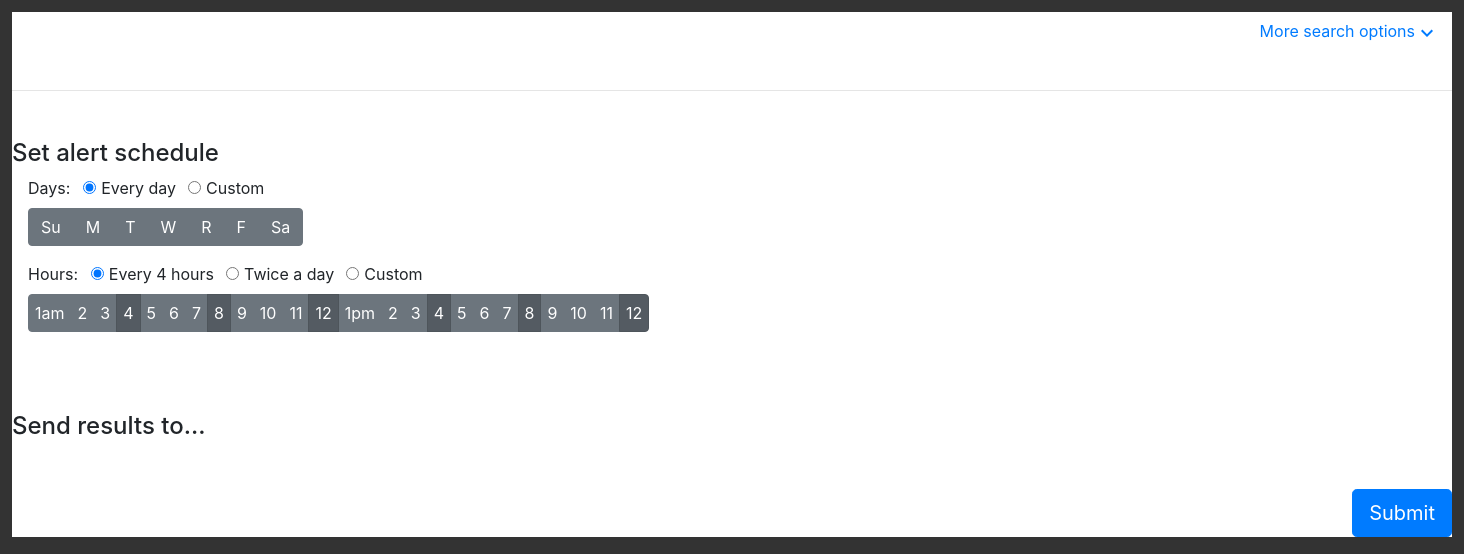
it: HomePageForm › should select the "Custom" radio button when any day is selected
Expected: the checkbox labelled "M" is not checked, [86, 215, 99, 228]
Expected: the checkbox labelled "T" is not checked, [125, 215, 138, 228]
Click the checkbox labelled "Su" at (48, 221), box [41, 215, 54, 228]
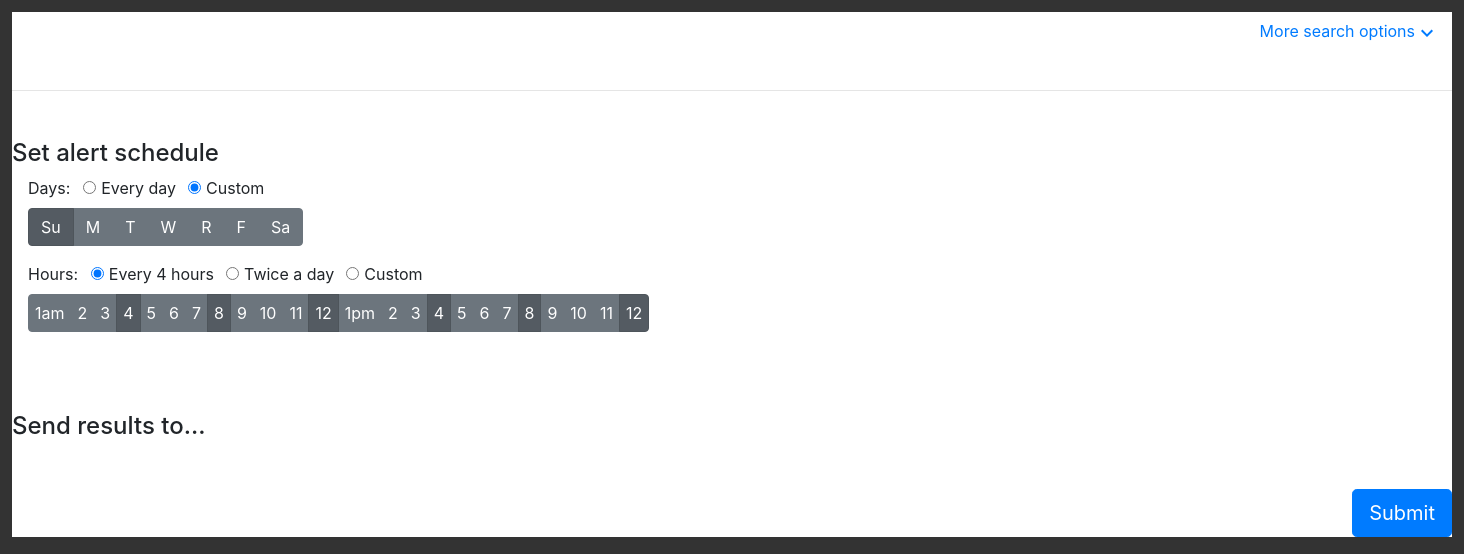
Now the radio button labelled "Custom" next to "Every day" is checked, box [188, 181, 201, 194]
